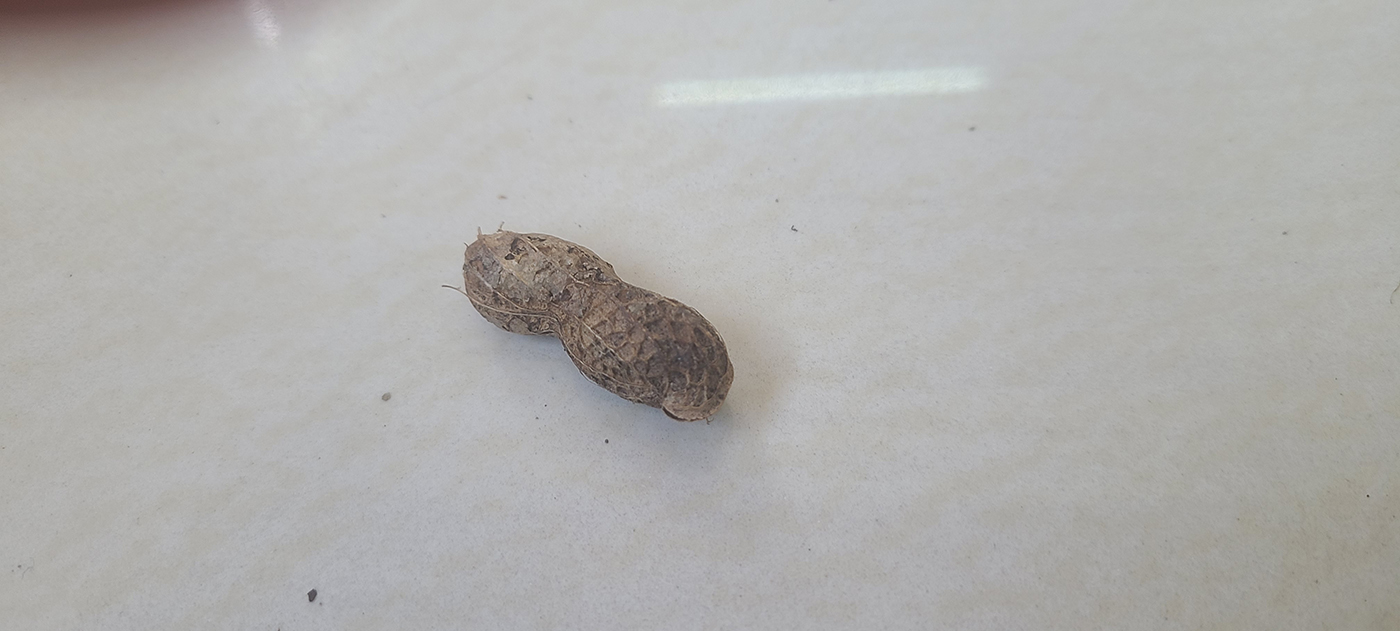l: (462, 228, 734, 421)
